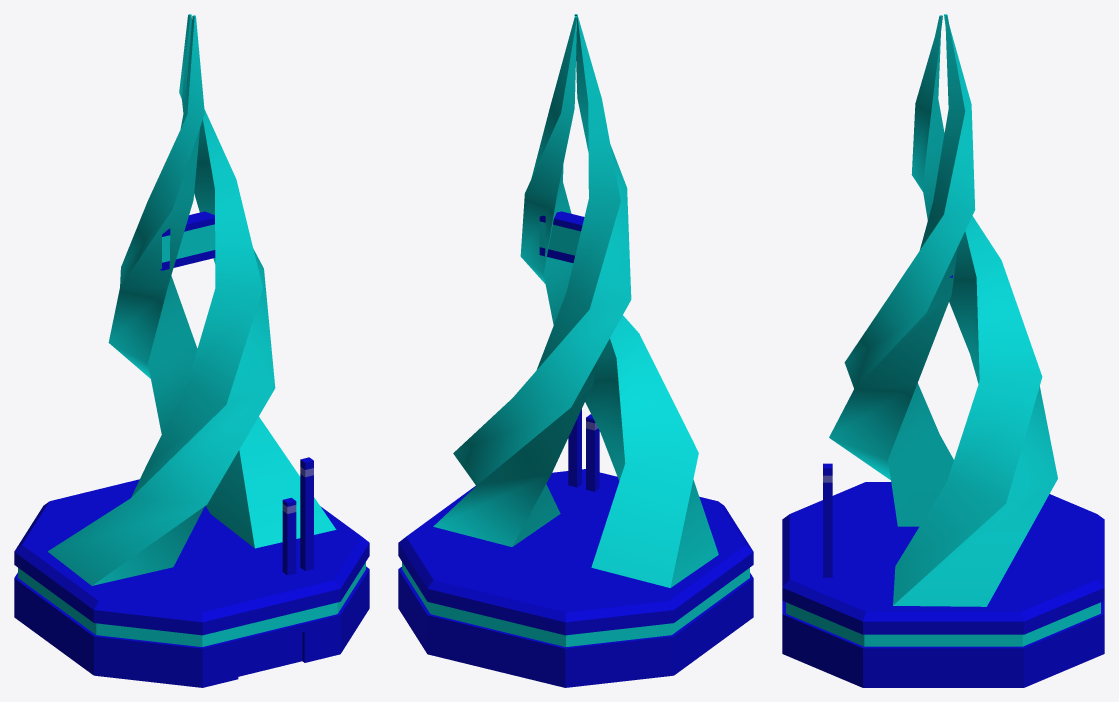
The picture shows the model from 3 angles, left to right: view 1: azimuth 30°, elevation 25°; view 2: azimuth 150°, elevation 25°; view 3: azimuth 270°, elevation 25°; orthographic projection.
Visible parts, largest first — view 1: SL745; view 2: SL745; view 3: SL745.
Part boxes in pixels (left/top/right/bottom): SL745: left=14, top=14, right=369, bottom=687; SL745: left=398, top=14, right=753, bottom=687; SL745: left=782, top=14, right=1104, bottom=687.
Bounding box in the file's own units: 0.7734 × 1.6 × 0.7734.
